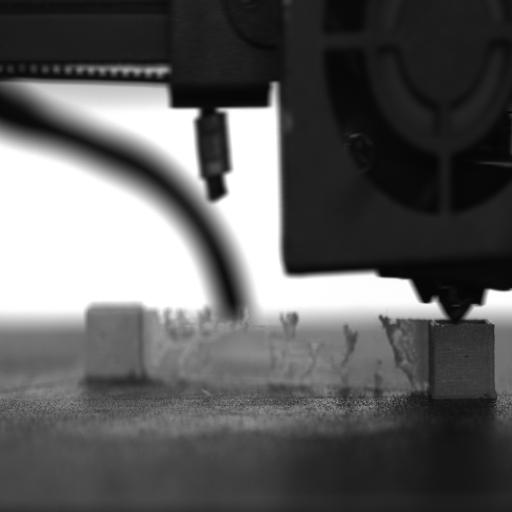spaghetti_and_stringing: (152, 303, 252, 382), (379, 318, 431, 392), (140, 306, 166, 380), (336, 324, 360, 390), (301, 339, 326, 383)
